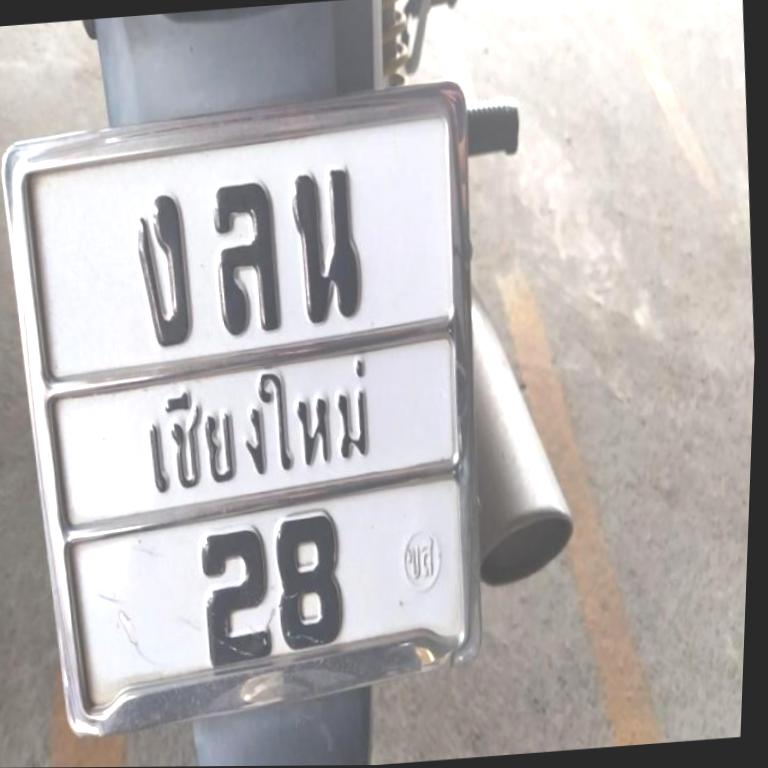license plate: (0, 83, 504, 750)
